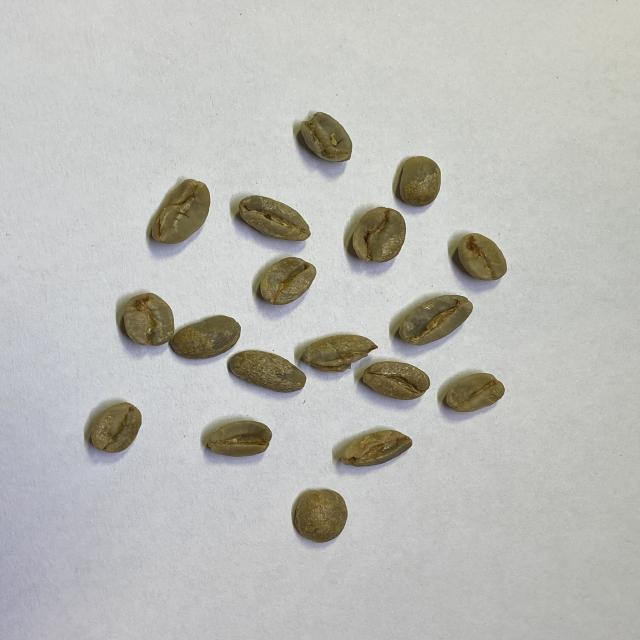bad: (147, 178, 212, 246), (352, 206, 406, 265), (339, 428, 414, 468), (297, 111, 354, 163), (121, 292, 175, 346), (302, 334, 378, 372), (206, 420, 273, 458)
good: (397, 294, 474, 345), (230, 348, 306, 393), (240, 194, 311, 242), (82, 401, 144, 455), (168, 315, 242, 360), (293, 488, 348, 544), (258, 256, 318, 306), (362, 362, 430, 401), (393, 156, 443, 208), (458, 231, 507, 282), (445, 373, 504, 412)
